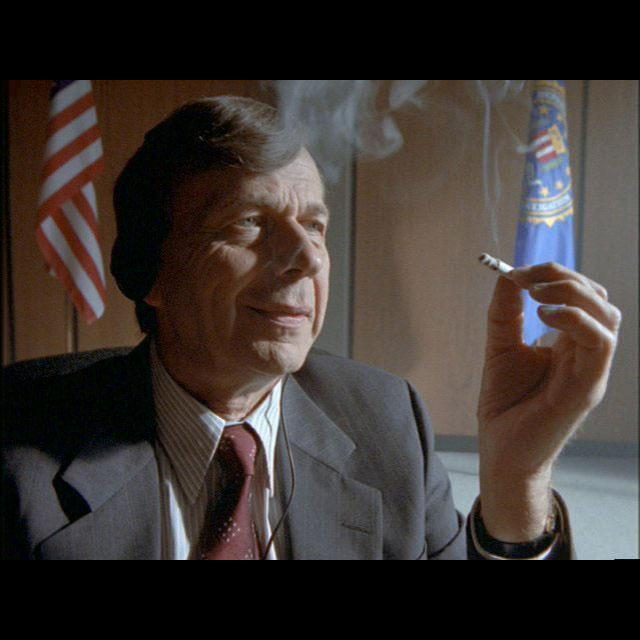rokok: (474, 247, 522, 276)
